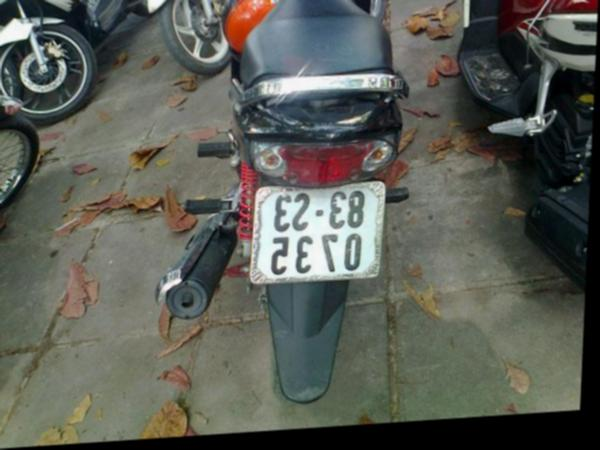License_Plate: (253, 182, 381, 282)
